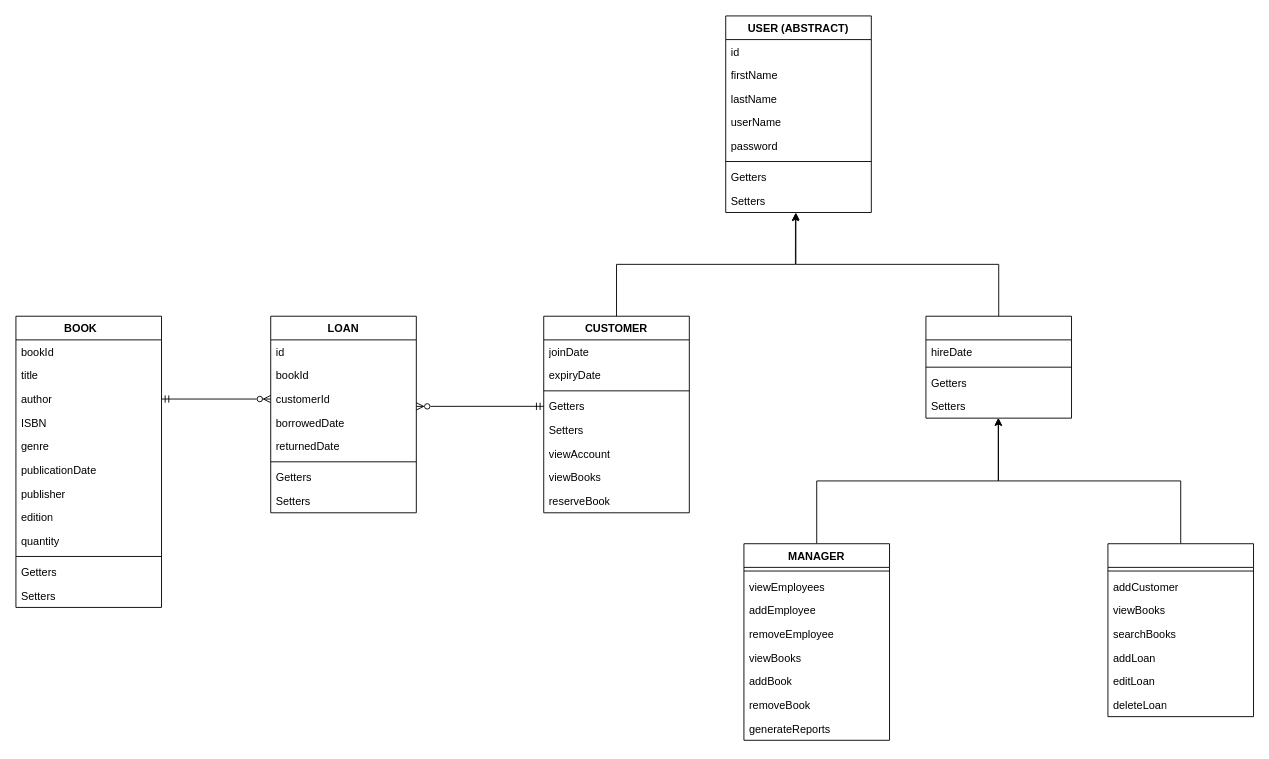
The diagram is 1269 pixels wide and 759 high, and some of its shapes have lost their labels. The shapes that lost their labels are listed below. From the top down, each one's box as (x1, y1, x2, y2) in pixels, then its label:
(925, 315, 1072, 418): EMPLOYEE
(1107, 543, 1254, 717): LIBRARIAN
